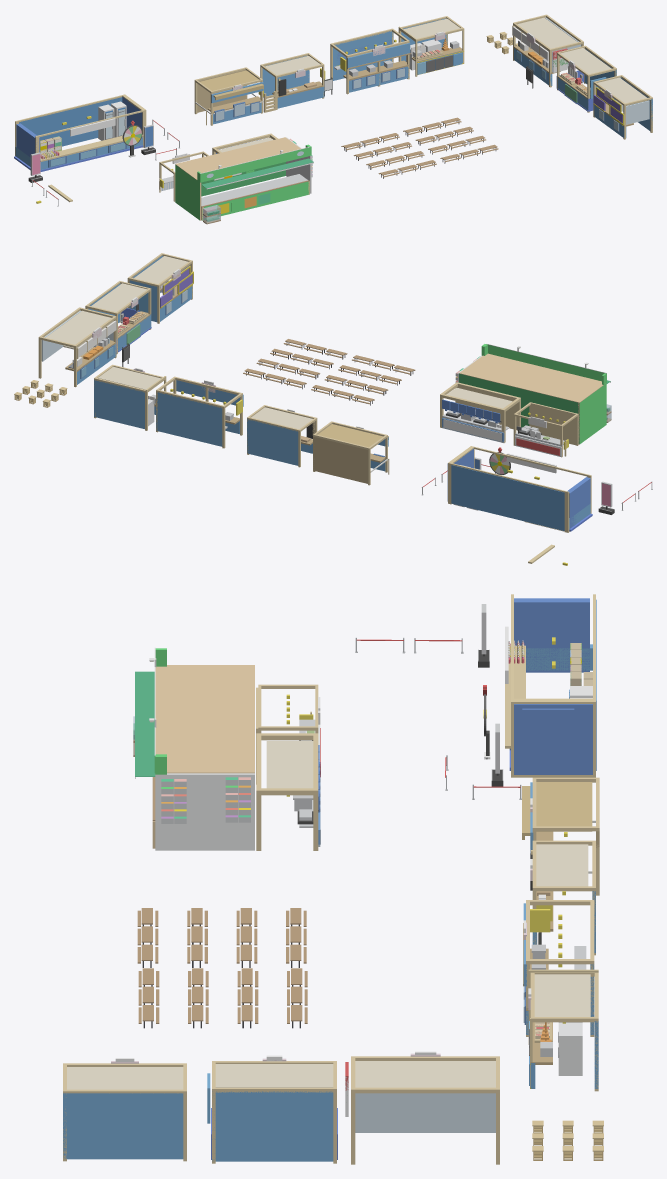
File: seomun_food.glb
The picture shows the model from 3 angles, top to bottom: view 1: azimuth 30°, elevation 25°; view 2: azimuth 150°, elevation 25°; view 3: azimuth 270°, elevation 25°; orthographic projection. The views are drawn at different scales.
Parts seen in each view (by area): view 1: Geom3D (×29); view 2: Geom3D (×21); view 3: Geom3D (×20).
Part boxes in pixels (x1,y1,x2,y2): Geom3D (×29): (16,17,649,220); Geom3D (×21): (46,256,606,531); Geom3D (×20): (63,598,592,1161).
Bounding box in the file's own units: 82.64 × 13.7 × 36.86.
